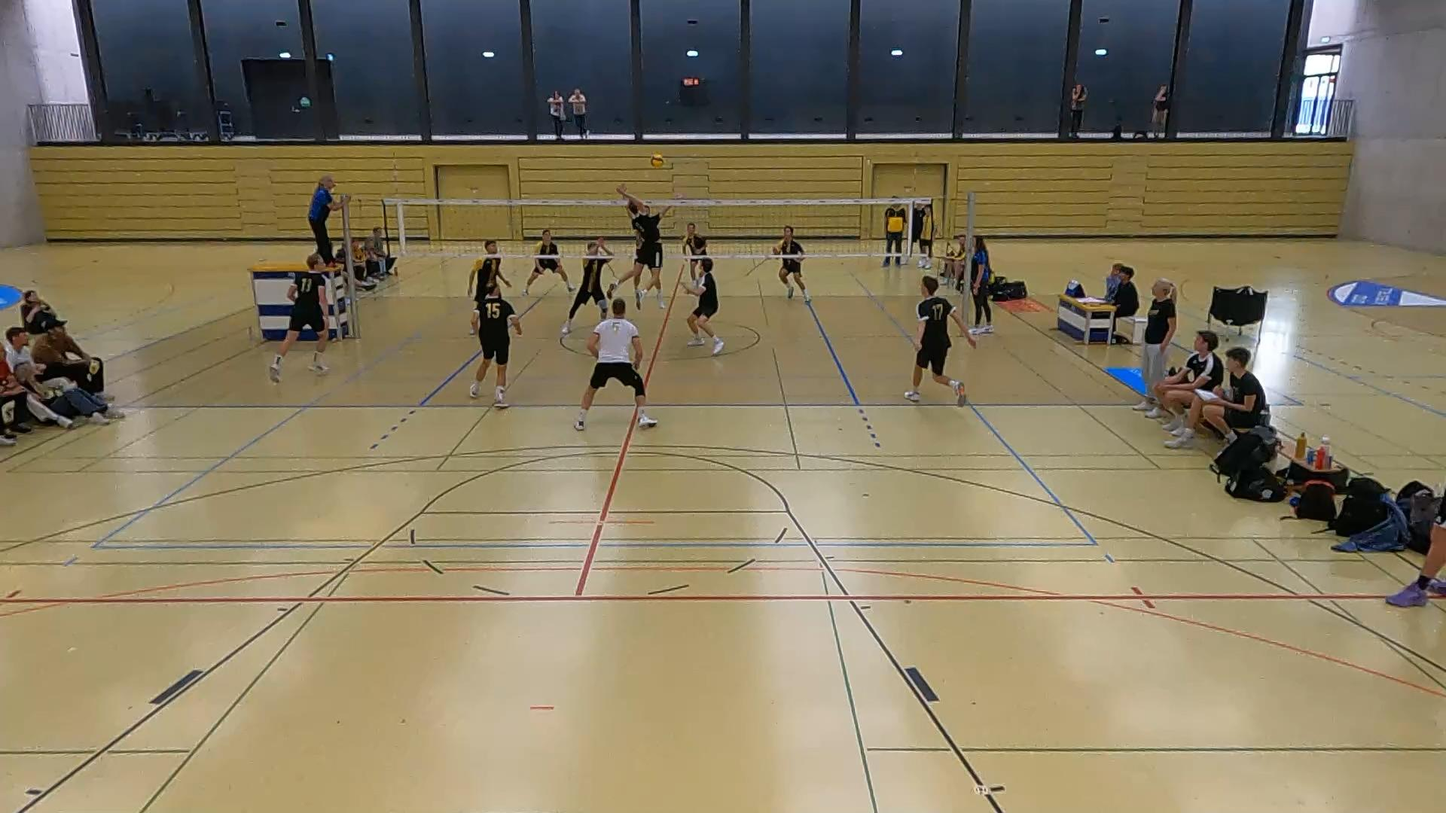Attack: (612, 187, 676, 303)
Player: (575, 298, 657, 430), (905, 276, 976, 405), (268, 254, 328, 382), (469, 286, 522, 408), (561, 236, 613, 336), (468, 240, 511, 334), (684, 255, 723, 355), (522, 229, 573, 296), (772, 226, 810, 302), (682, 222, 706, 279)
ball: (648, 152, 667, 171)
